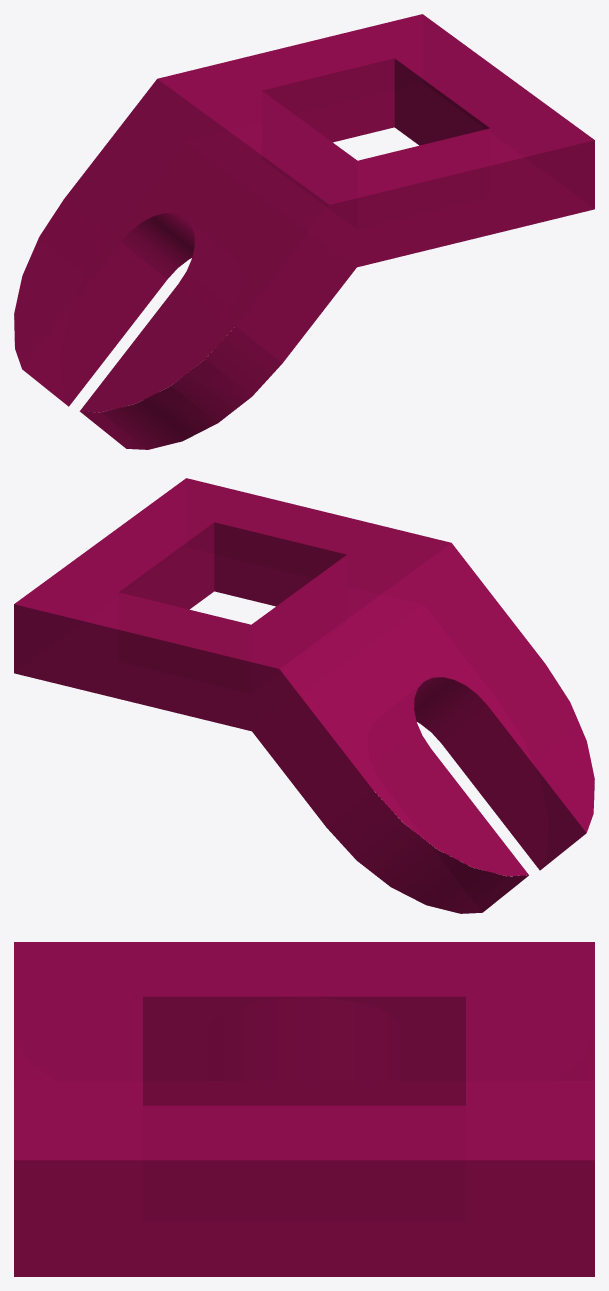
3 renders of one model, top to bottom at view 1: azimuth 30°, elevation 25°; view 2: azimuth 150°, elevation 25°; view 3: azimuth 270°, elevation 25°, orthographic. The views are drawn at different scales.
Parts seen in each view (by area): view 1: SketchUp; view 2: SketchUp; view 3: SketchUp.
Boxes of the visible parts, x1,y1,x2,y2 form: SketchUp: (14,14,594,449); SketchUp: (14,478,594,913); SketchUp: (14,942,594,1276).
Bounding box in the file's own units: 2718 × 1772 × 1420.
